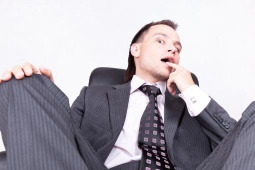male: (135, 24, 187, 81)
